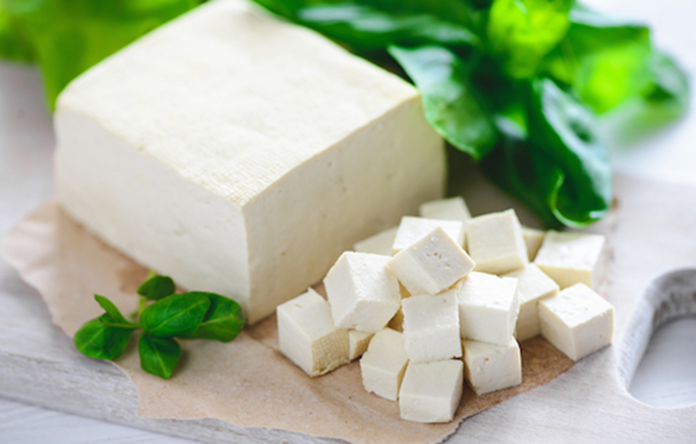Tahu: (23, 15, 420, 298)
